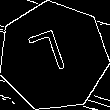L_S: (31, 28, 77, 85)
